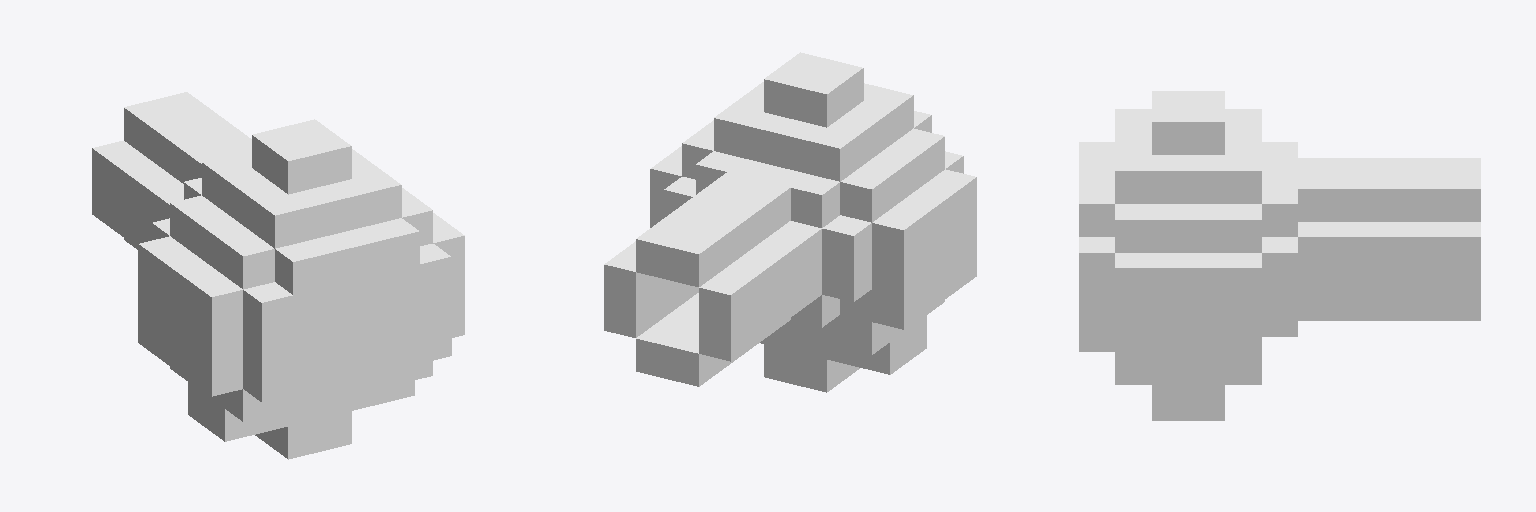
The model's file is standardTurretHead.obj.
The picture shows the model from 3 angles: view 1: azimuth 30°, elevation 25°; view 2: azimuth 150°, elevation 25°; view 3: azimuth 270°, elevation 25°; orthographic projection.
Bounding box in the file's own units: 8 × 9 × 11.